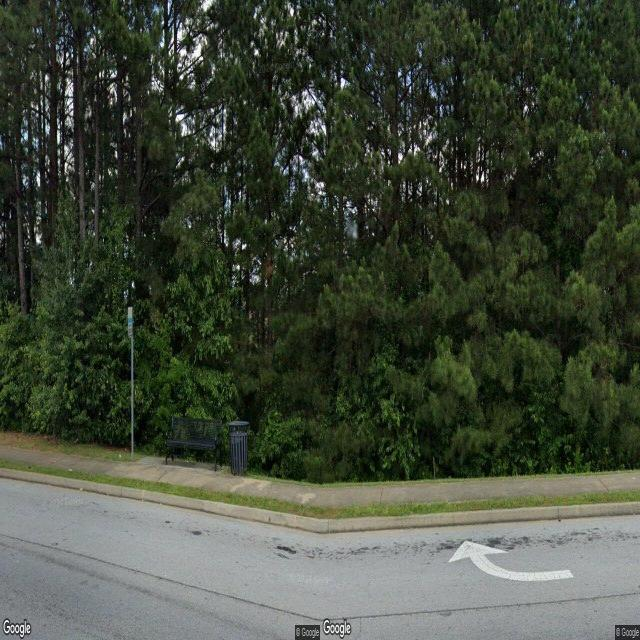seating: (164, 414, 222, 470)
trash_can: (228, 420, 250, 478)
